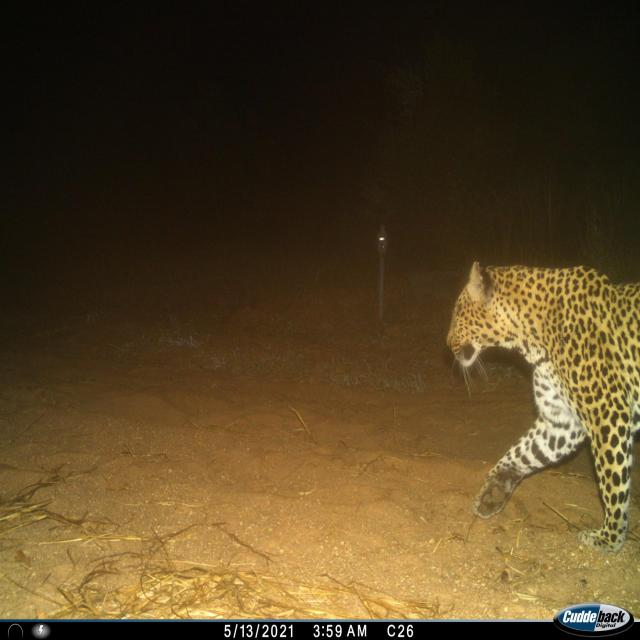Leopard: (447, 249, 640, 561)
